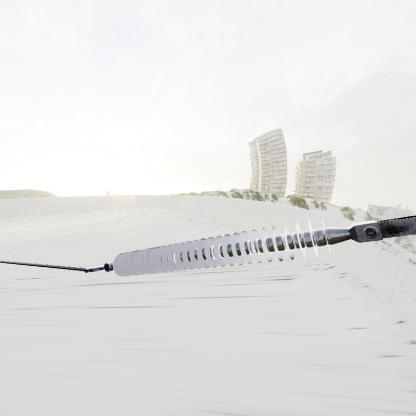insulator: (107, 214, 351, 282)
